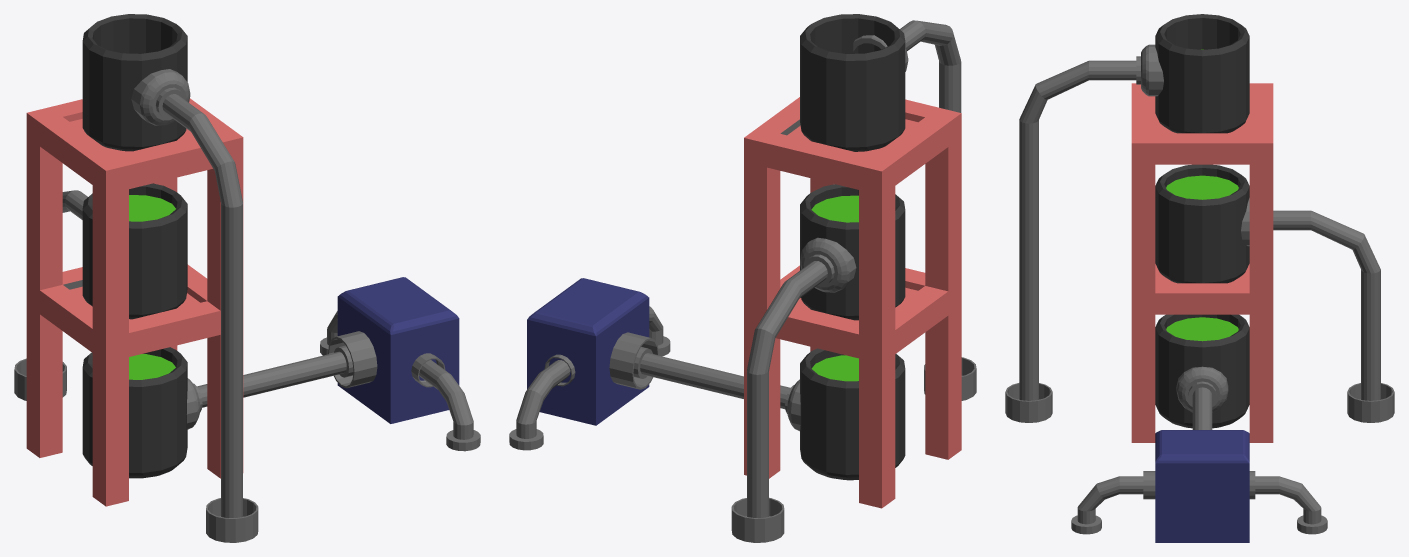
Rendered from Industrial_Distillery.fbx.
3 views of the same model, side by side, from view 1: azimuth 30°, elevation 25°; view 2: azimuth 150°, elevation 25°; view 3: azimuth 270°, elevation 25° (orthographic). The views are drawn at different scales.
Parts seen in each view (by area): view 1: Industrial_Distillery; view 2: Industrial_Distillery; view 3: Industrial_Distillery.
Part boxes in pixels (x1,y1,x2,y2): Industrial_Distillery: (14,14,480,542); Industrial_Distillery: (509,14,976,542); Industrial_Distillery: (1005,14,1394,542).
Size of the model in its own units: 1600 by 1780 by 1647.
